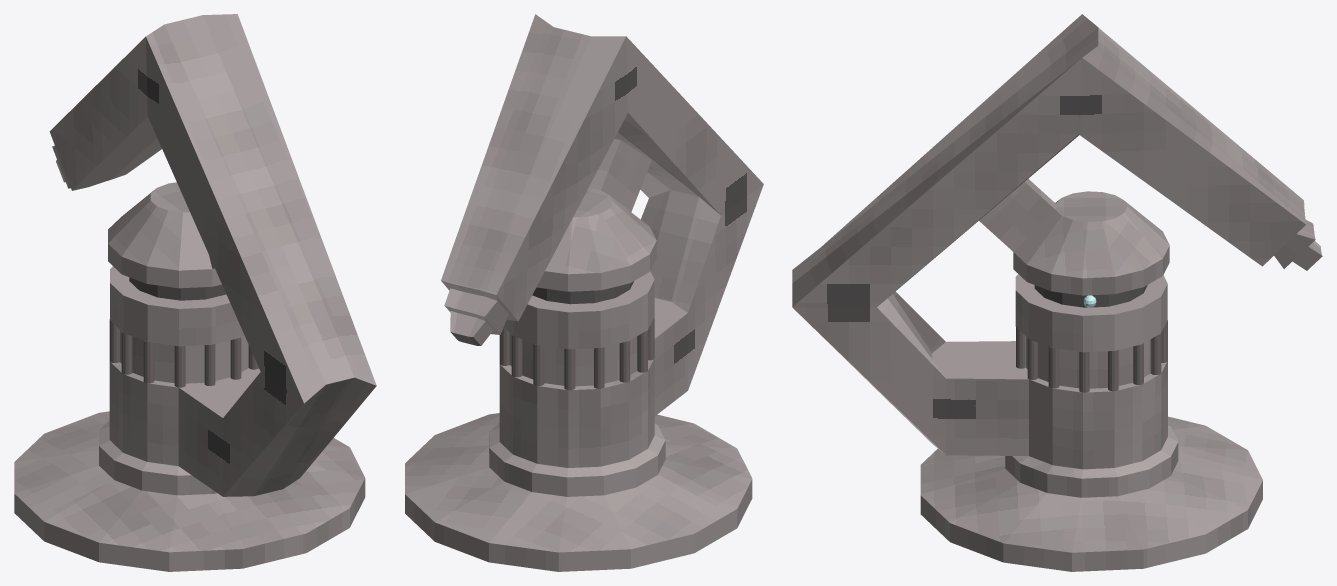
File: oilPumpModel.fbx
The picture shows the model from 3 angles, left to right: view 1: azimuth 30°, elevation 25°; view 2: azimuth 150°, elevation 25°; view 3: azimuth 270°, elevation 25°; orthographic projection. The views are drawn at different scales.
Parts seen in each view (by area): view 1: cylinder; view 2: cylinder; view 3: cylinder.
Boxes of the visible parts, bbox=[...] form: cylinder: bbox=[14, 14, 376, 571]; cylinder: bbox=[405, 14, 763, 571]; cylinder: bbox=[792, 14, 1322, 571].
Size of the model in its own units: 102 by 151 by 157.
2 materials, 2 textured.
